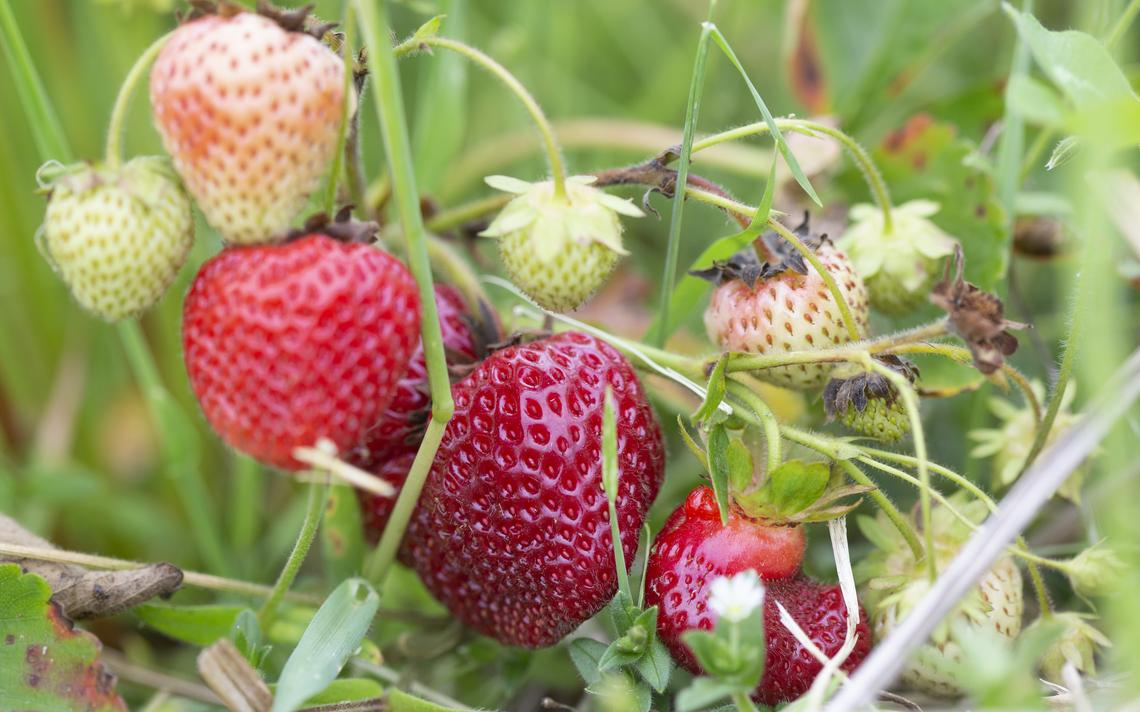ripe: (381, 334, 669, 657), (180, 235, 423, 469), (656, 450, 826, 708), (338, 271, 497, 415), (725, 575, 890, 706)
unripe: (145, 10, 363, 248), (858, 514, 1033, 689), (38, 156, 207, 325), (711, 225, 869, 395), (492, 178, 626, 313), (856, 214, 947, 325), (834, 353, 925, 451)
